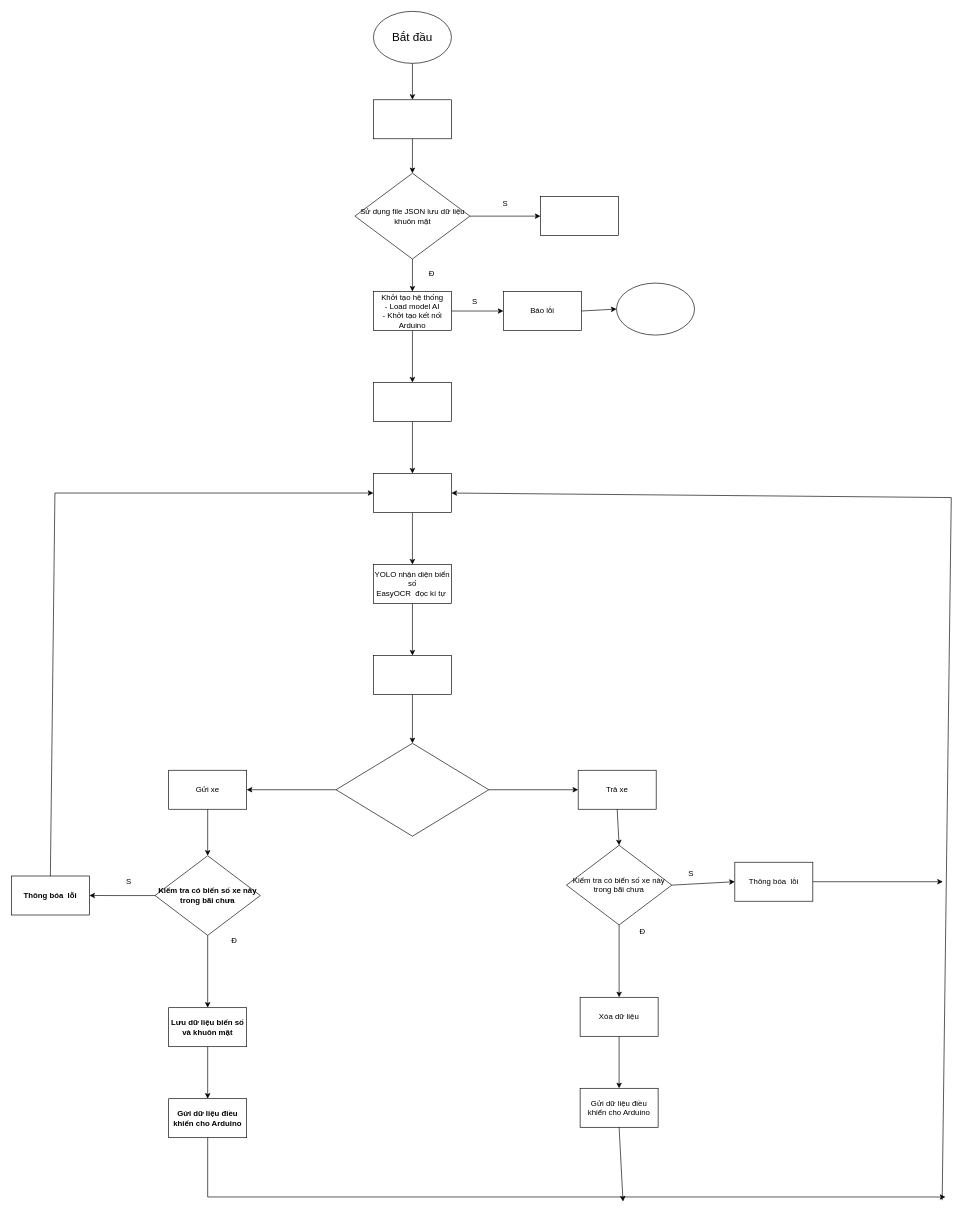
The diagram is 968 pixels wide and 1218 high, and some of its shapes have lost their labels. The shapes that lost their labels are listed below. From the top down, each one's centre as x and y in pixels, then its label:
[412,119]: Tạo folder lưu trữ ảnh khuôn mặt.
[579,216]: Tạo file JSON
[655,308]: Kết thúc
[412,402]: Khởi tạo giao diên
[412,493]: Camera đọc biển số và khuôn mặt
[412,675]: Nhận diện khuôn mặt
[412,789]: Nhấn nút trả xe/ gửi xe
